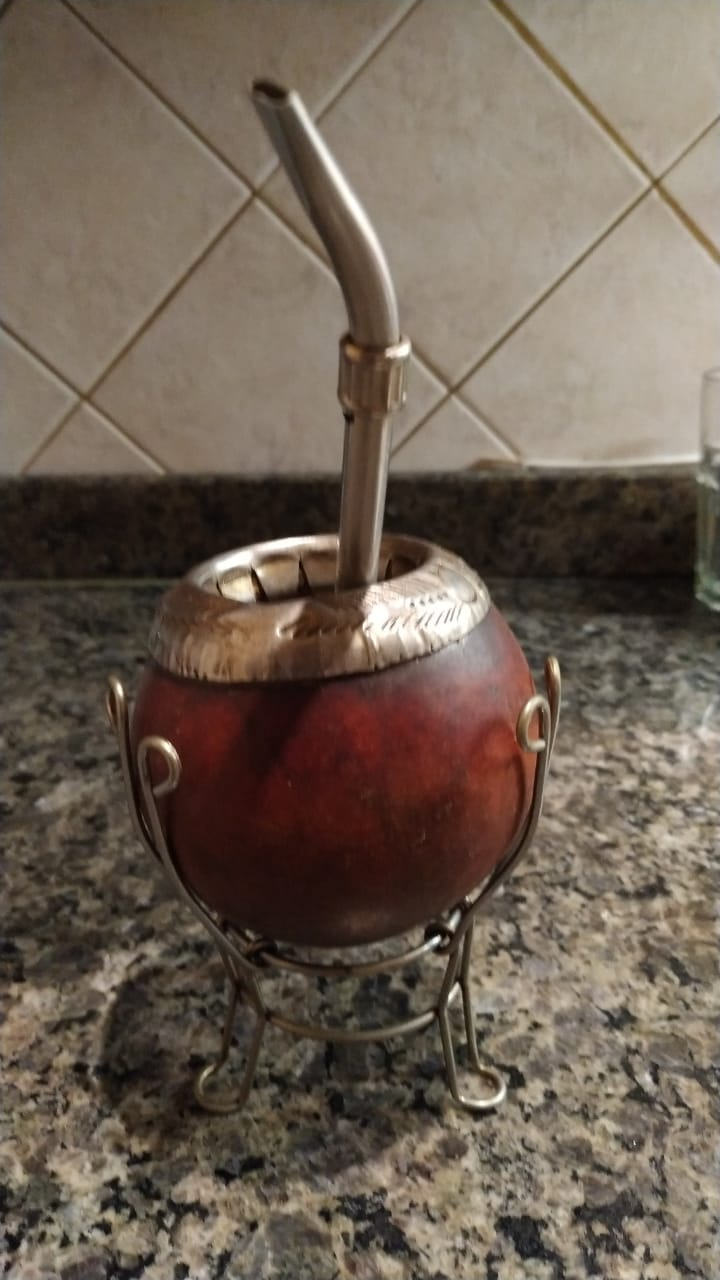calabaza: (113, 55, 561, 1123)
mate: (115, 57, 563, 1125)
